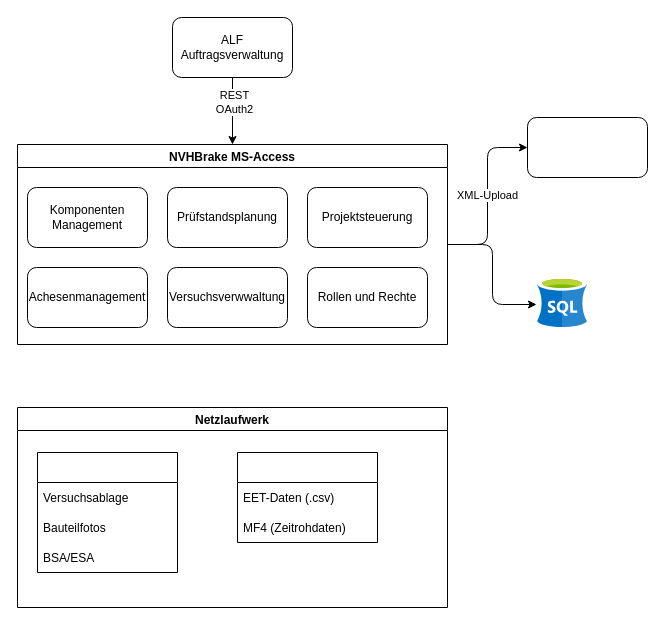
The diagram is 665 pixels wide and 625 high, and some of its shapes have lost their labels. Each missing label, with the box of its shape:
CAE-Bench: (526, 116, 648, 178)
M://: (236, 452, 378, 542)
MS-SQL-Server: (537, 277, 587, 327)
P://: (36, 452, 178, 572)
